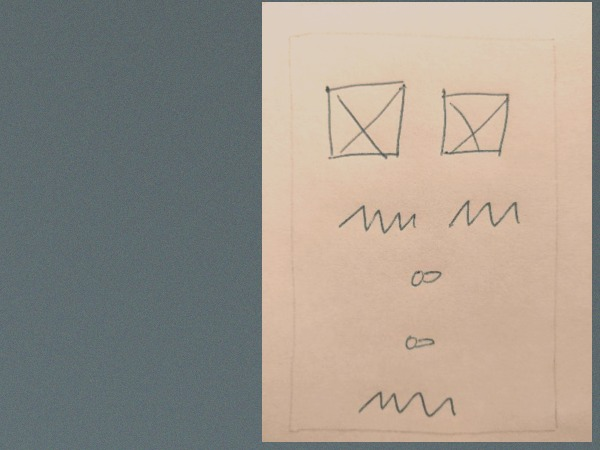image: (315, 78, 413, 162), (434, 81, 516, 163)
switch: (399, 261, 456, 293), (399, 329, 441, 354)
text: (350, 376, 465, 425), (330, 199, 426, 238), (442, 194, 527, 235)
